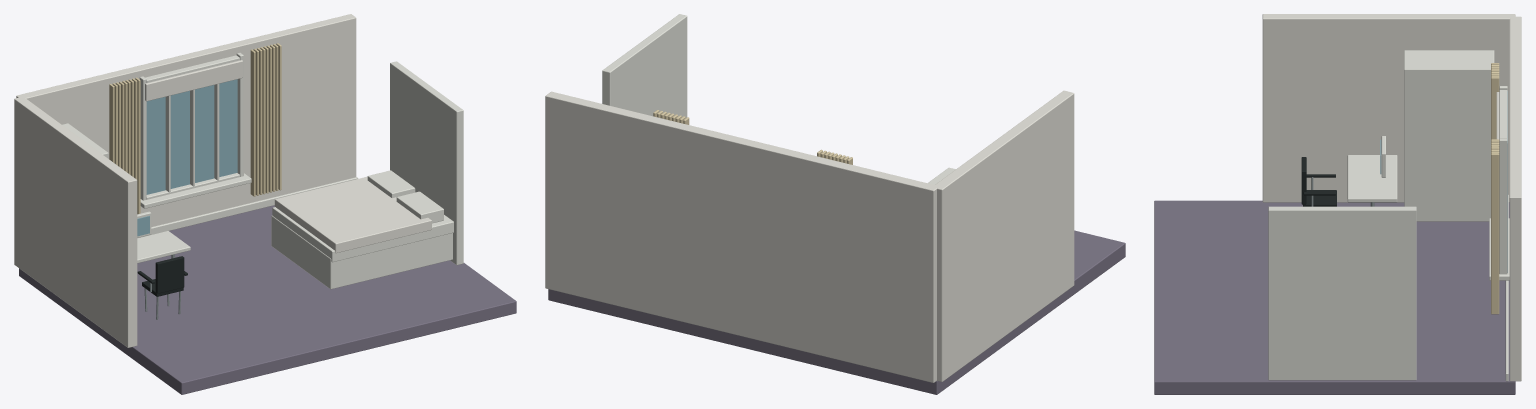
File: 5lf-interior-201052502ecb.glb
The picture shows the model from 3 angles, left to right: view 1: azimuth 30°, elevation 25°; view 2: azimuth 150°, elevation 25°; view 3: azimuth 270°, elevation 25°; orthographic projection. The views are drawn at different scales.
Parts seen in each view (by area): view 1: 5LF.001; view 2: 5LF.001; view 3: 5LF.001.
Part boxes in pixels (bbox=[...]): 5LF.001: bbox=[14, 14, 516, 394]; 5LF.001: bbox=[545, 14, 1125, 394]; 5LF.001: bbox=[1154, 14, 1521, 394].
Size of the model in its own units: 5.78 by 2.9 by 4.88.
